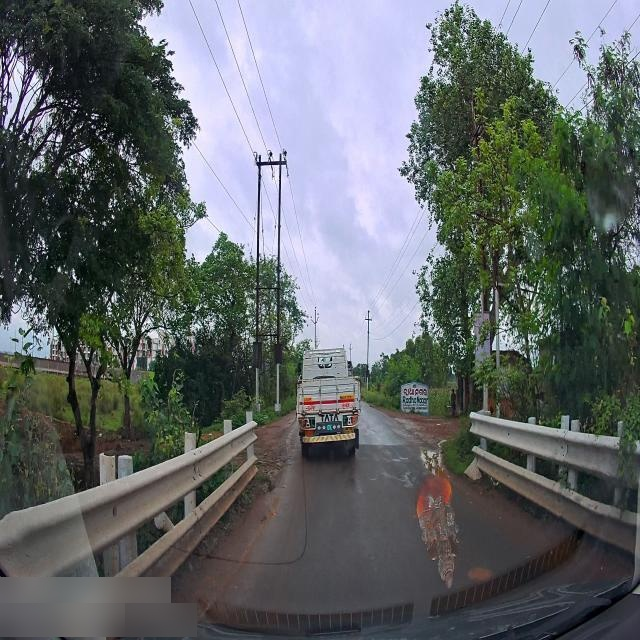pothole: (412, 440, 444, 470)
